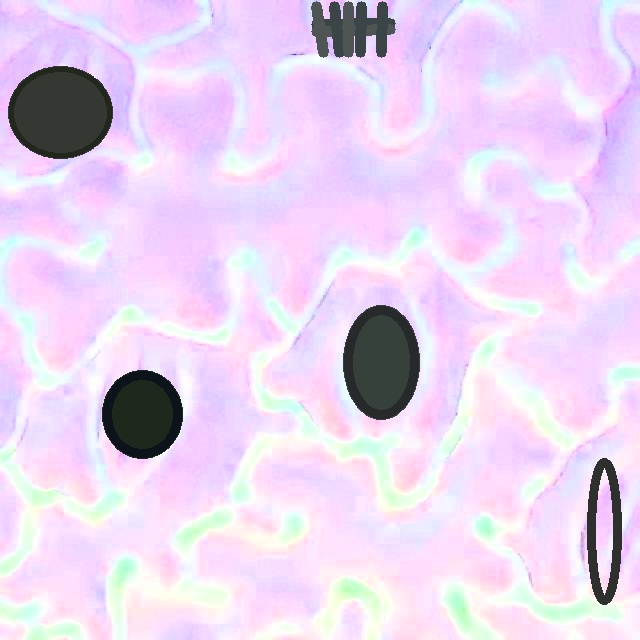open: (9, 66, 112, 157), (343, 305, 419, 419), (102, 370, 182, 458), (586, 457, 623, 605), (311, 2, 395, 57)
